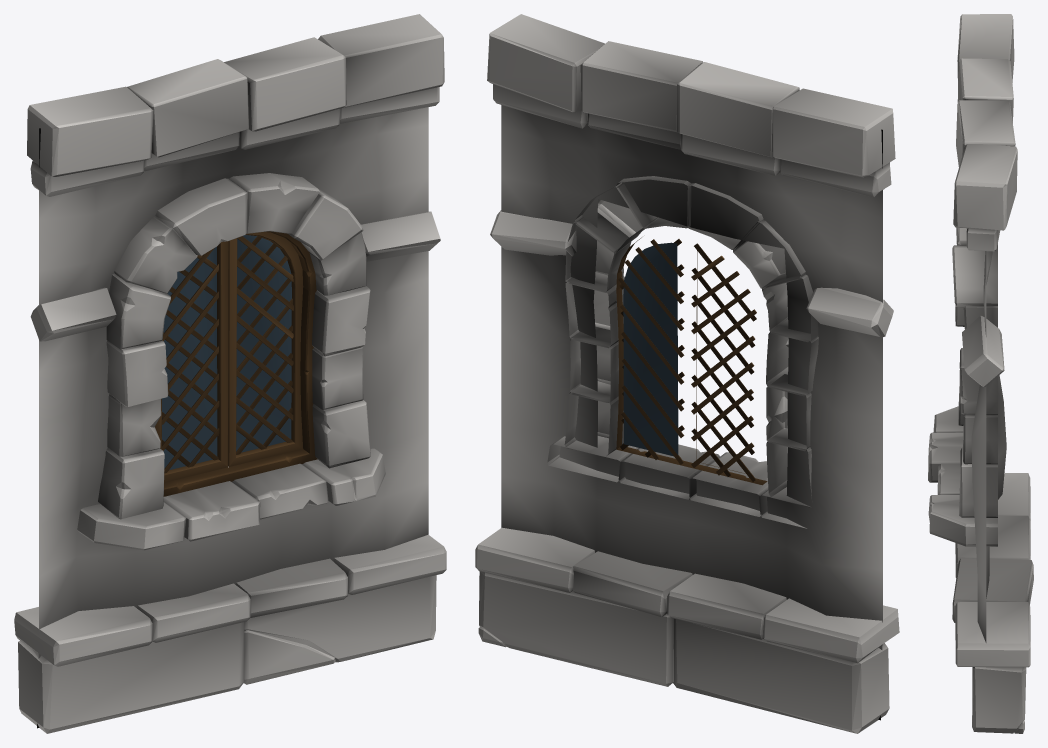
File: wall_window_D.FBX
3 views of the same model, side by side, from view 1: azimuth 30°, elevation 25°; view 2: azimuth 150°, elevation 25°; view 3: azimuth 270°, elevation 25° (orthographic). The views are drawn at different scales.
Visible parts, largest first — view 1: wall_window_D; view 2: wall_window_D; view 3: wall_window_D.
Part boxes in pixels (<box>): wall_window_D: <box>14,14,446,733</box>; wall_window_D: <box>475,14,899,733</box>; wall_window_D: <box>928,14,1033,733</box>.
Size of the model in its own units: 4.06 by 6.04 by 1.05.
